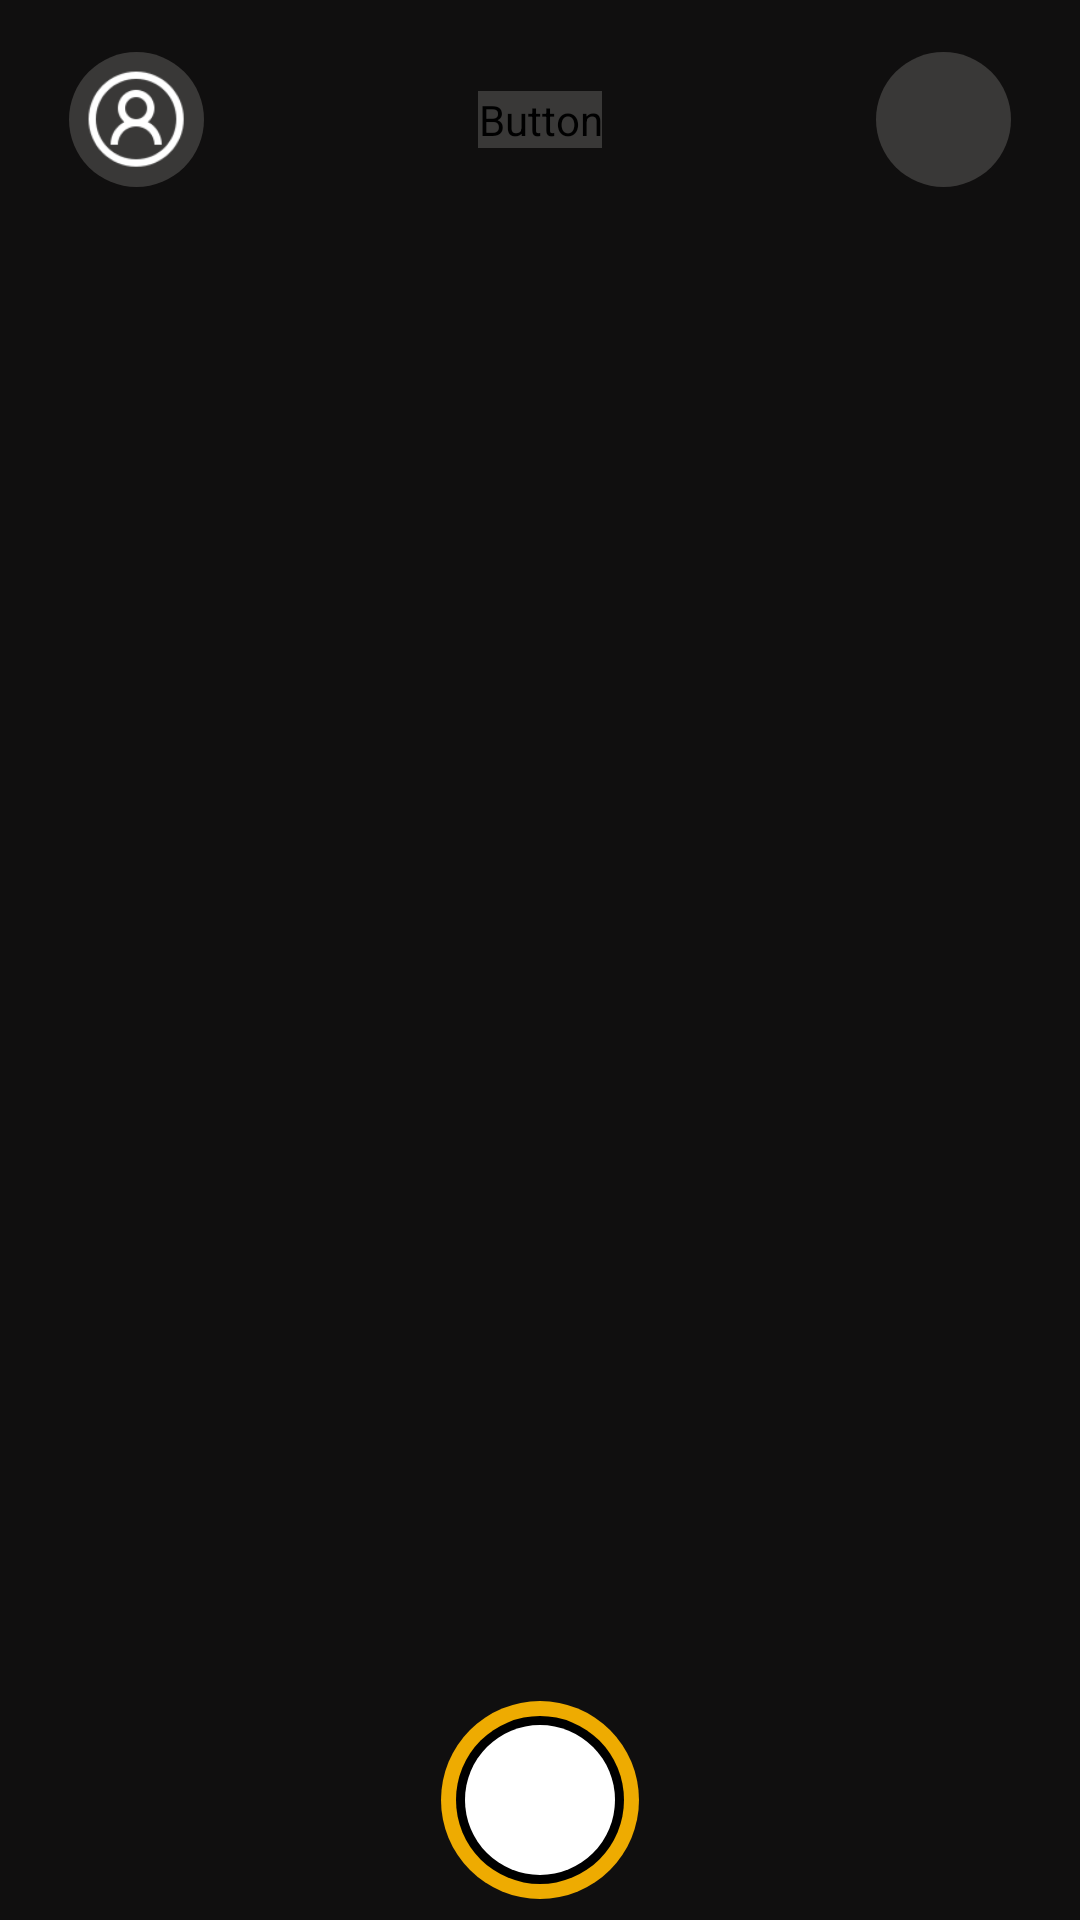

Icon bounding boxes for this 1080 x 1920 phone screenshot, format (left=x1, top=y1, right=x2, bottom=y2):
user: (left=69, top=52, right=204, bottom=187)
